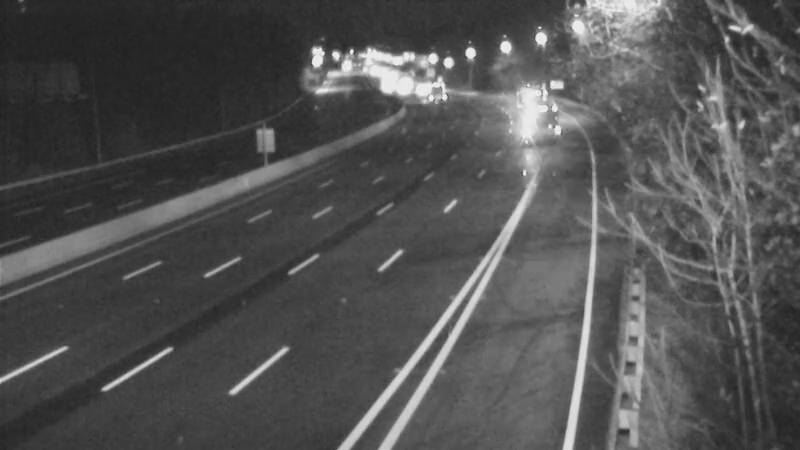vehicle: (395, 67, 445, 117), (503, 69, 553, 119), (410, 70, 460, 120), (510, 92, 560, 142)
